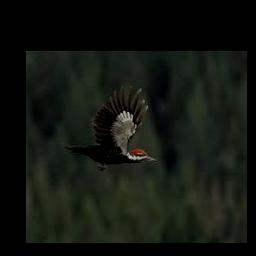Woodpecker: (64, 85, 157, 171)
